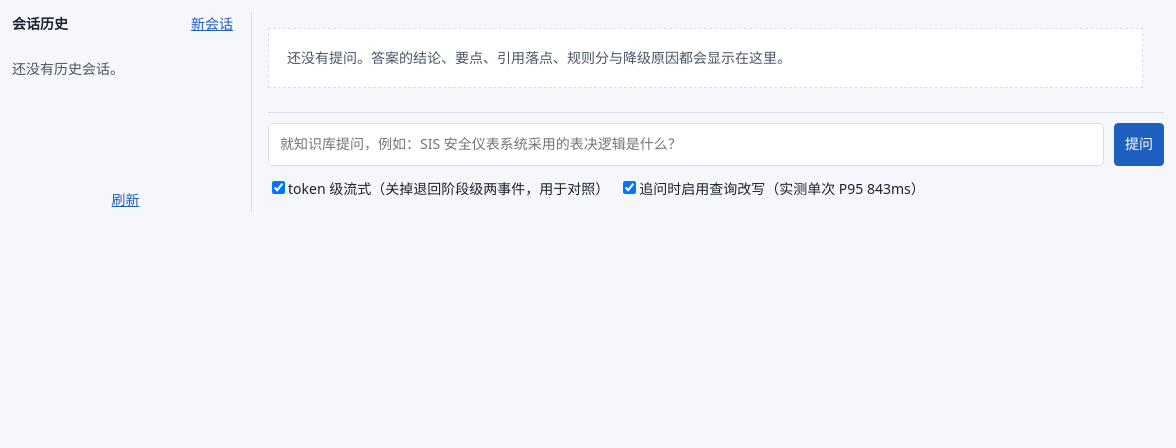
问答页的三态渲染 › 拒答得分开「没资料」与「有资料但没复核」——后者必须给可推进的提示
Step 1. Type "表决逻辑是什么？" into the search field named "问题" → (686, 145), box 268,123 -> 1104,166
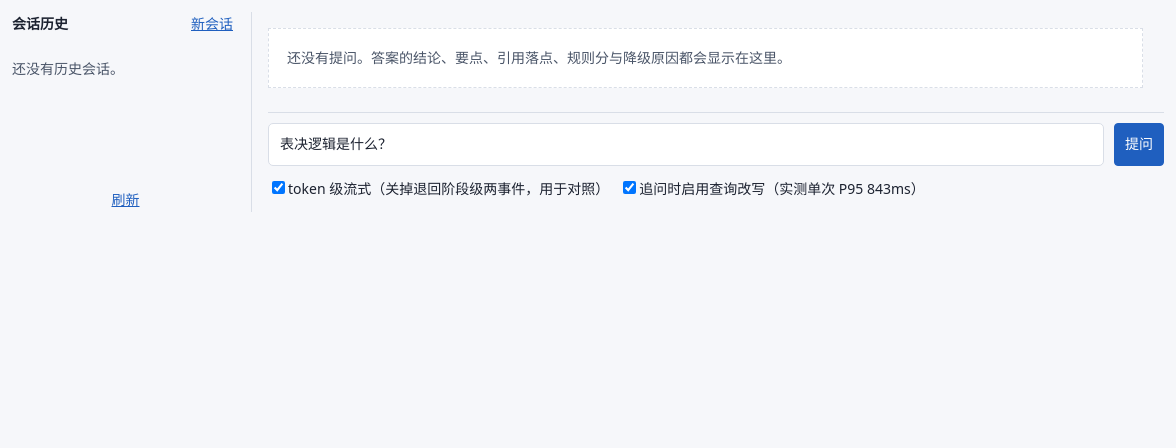
Step 2. Click the button "提问" → (1139, 145), box 1114,123 -> 1164,166
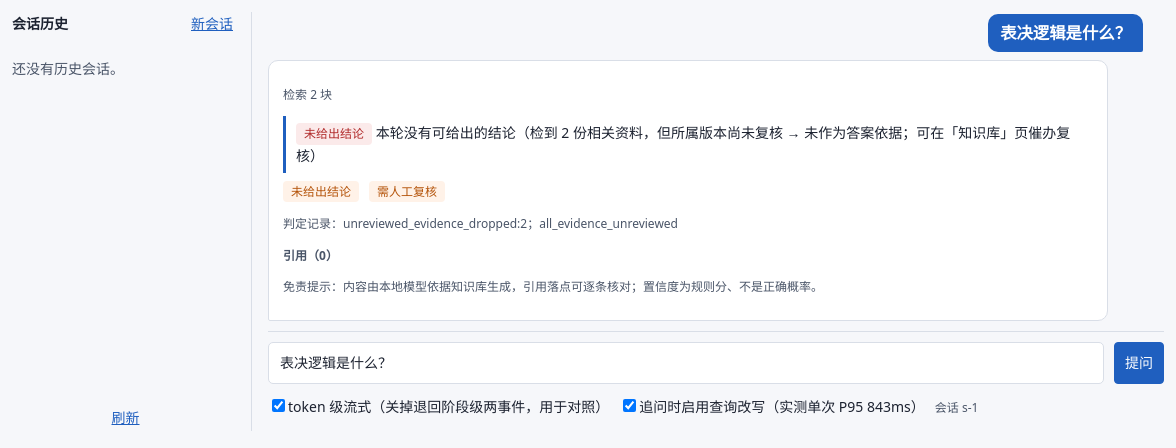
Expected: the text with test id "refusal-reason" does not show "语料内无依据", 296,123 -> 1070,165
Expected: the text with test id "refusal-reason" shows "2 份相关资料", 296,123 -> 1070,165
Expected: the text with test id "refusal-reason" shows "尚未复核", 296,123 -> 1070,165
